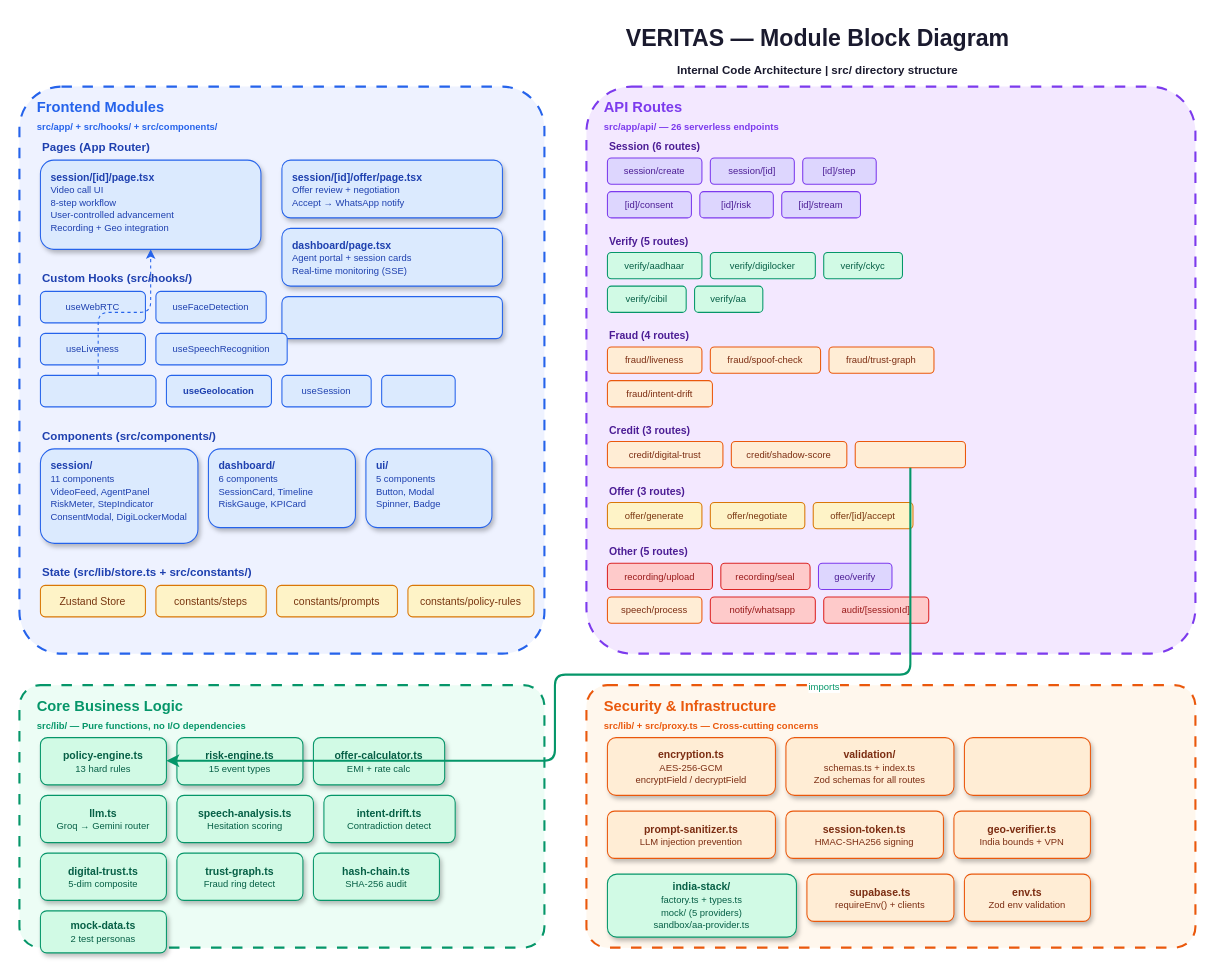
This 1214x979 diagram has some shape labels left out. The shapes that lost their labels are listed below. From the top down, each one's centre as x and y in pixels, then its label:
(x=393, y=318): audit/[sessionId]/page.tsx Hash chain viewer
(x=97, y=390): useMediaRecorder
(x=418, y=390): useSSE
(x=909, y=454): credit/risk-classify
(x=1028, y=767): rate-limiter.ts Token bucket 4 presets
